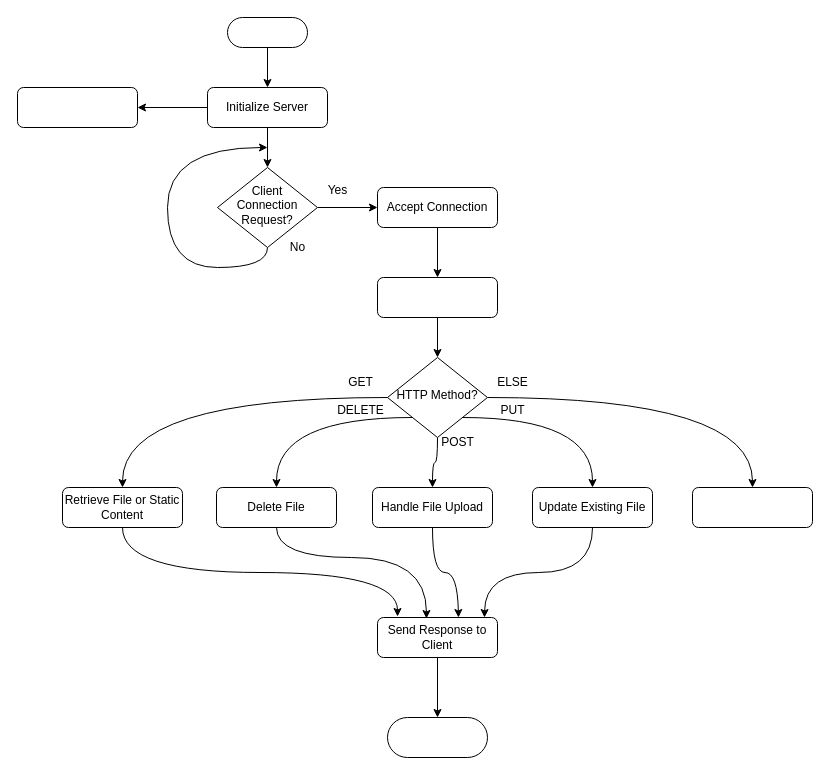
Some shapes in this 830 by 775 pixel diagram are drawn without their labels. Here are the shapes that lost their labels. From the top down, the centre of each, then its label:
At point 267,32: "Start".
At point 77,107: "Packet Sniffing for Server".
At point 437,297: "Process Client Request".
At point 752,507: "Send Error Response".
At point 437,737: "Close Client Connection".
